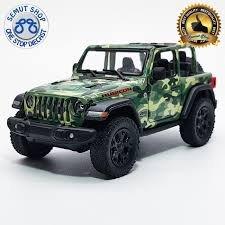mobil: (9, 41, 220, 178)
